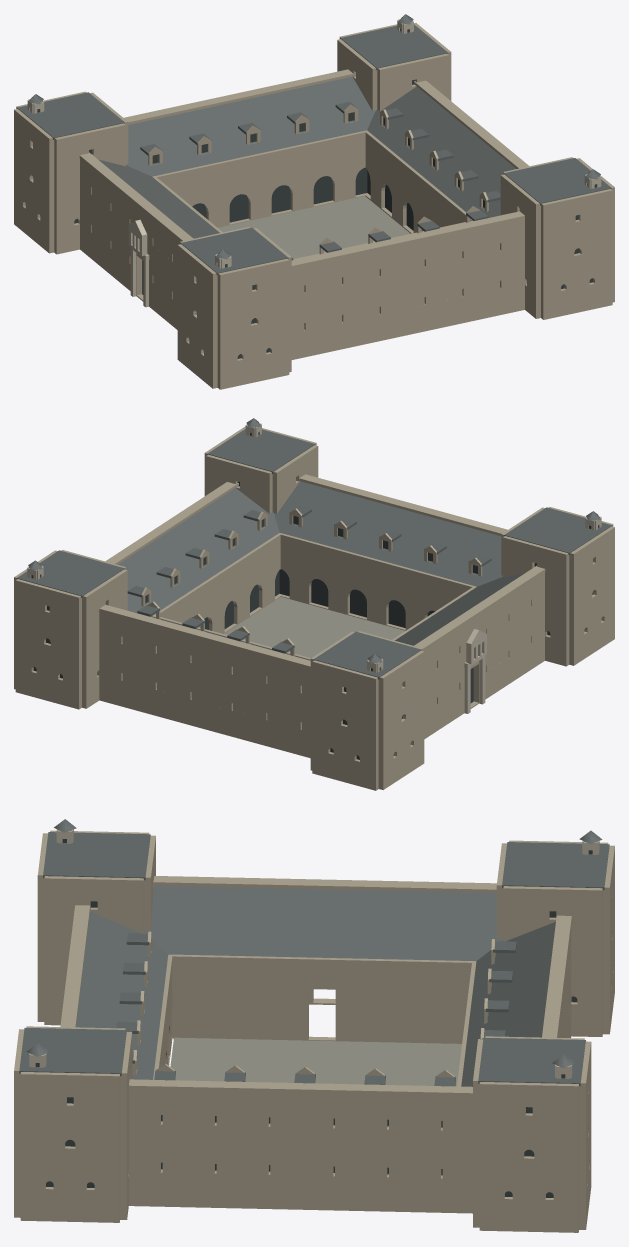
Rendered from fort-chambly-near.glb.
3 views of the same model, one above another, from view 1: azimuth 30°, elevation 25°; view 2: azimuth 150°, elevation 25°; view 3: azimuth 270°, elevation 25° (orthographic). The views are drawn at different scales.
Parts seen in each view (by area): view 1: fort-chambly-0-stone, fort-chambly-0-roof, fort-chambly-0-paving, fort-chambly-0-glass, fort-chambly-0-trim; view 2: fort-chambly-0-stone, fort-chambly-0-roof, fort-chambly-0-paving, fort-chambly-0-glass, fort-chambly-0-trim; view 3: fort-chambly-0-stone, fort-chambly-0-roof, fort-chambly-0-paving, fort-chambly-0-trim, fort-chambly-0-glass.
Boxes of the visible parts, bbox=[...] form: fort-chambly-0-stone: bbox=[14, 23, 614, 389]; fort-chambly-0-roof: bbox=[17, 14, 611, 275]; fort-chambly-0-paving: bbox=[218, 196, 410, 258]; fort-chambly-0-glass: bbox=[30, 28, 596, 358]; fort-chambly-0-trim: bbox=[27, 19, 601, 307]; fort-chambly-0-stone: bbox=[14, 426, 614, 790]; fort-chambly-0-roof: bbox=[16, 418, 612, 679]; fort-chambly-0-paving: bbox=[224, 597, 404, 657]; fort-chambly-0-glass: bbox=[31, 432, 598, 759]; fort-chambly-0-trim: bbox=[27, 423, 601, 713]; fort-chambly-0-stone: bbox=[14, 830, 614, 1232]; fort-chambly-0-roof: bbox=[19, 819, 609, 1086]; fort-chambly-0-paving: bbox=[170, 1037, 461, 1086]; fort-chambly-0-trim: bbox=[29, 825, 599, 1078]; fort-chambly-0-glass: bbox=[35, 839, 592, 1197].
Size of the model in its own units: 56.09 by 17.2 by 55.71.
